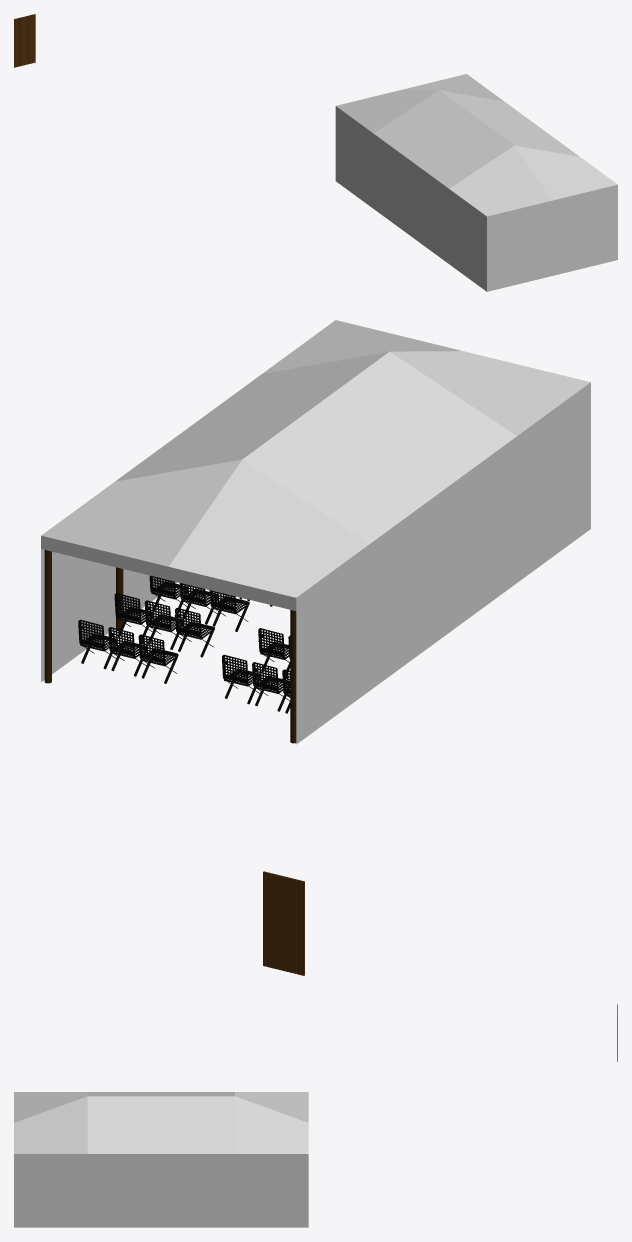
File: Tent Church.glb
The picture shows the model from 3 angles, top to bottom: view 1: azimuth 30°, elevation 25°; view 2: azimuth 150°, elevation 25°; view 3: azimuth 270°, elevation 25°; orthographic projection. The views are drawn at different scales.
Visible parts, largest first — view 1: Tent, Door.005; view 2: Tent, Chairs, Door.005, Tent Supports; view 3: Tent.
Boxes of the visible parts, bbox=[...] form: Tent: bbox=[335, 74, 617, 291]; Door.005: bbox=[14, 14, 35, 67]; Tent: bbox=[41, 320, 590, 744]; Chairs: bbox=[78, 575, 290, 713]; Door.005: bbox=[263, 871, 304, 975]; Tent Supports: bbox=[44, 550, 296, 743]; Tent: bbox=[14, 1092, 308, 1227].
Size of what is drawn, in the model's own units: 13.68 by 4.57 by 25.
